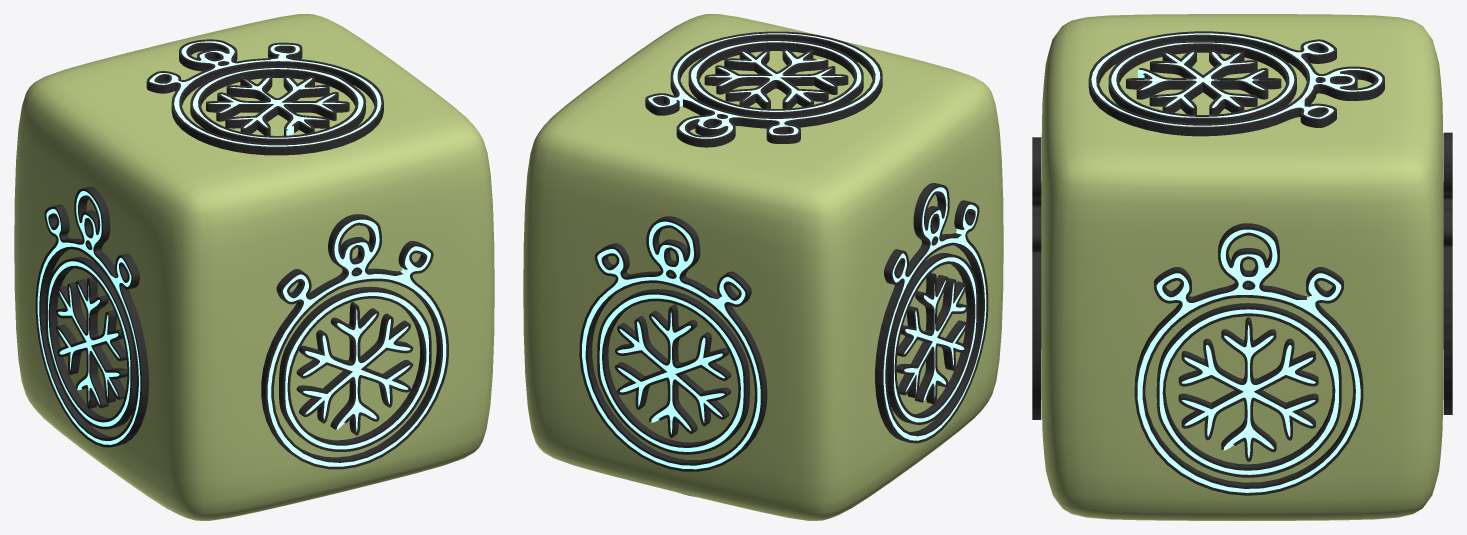
File: freeze collectible.fbx
3 views of the same model, side by side, from view 1: azimuth 30°, elevation 25°; view 2: azimuth 150°, elevation 25°; view 3: azimuth 270°, elevation 25° (orthographic). The views are drawn at different scales.
Visible parts, largest first — view 1: freeze collectible, freeze-side-face.005|border.017|Dupli|1, freeze-side-face.003|border.017|Dupli|1, freeze-side-face|border.017|Dupli|1, freeze-side-face.005|border|Dupli|5, freeze-side-face.003|border|Dupli|5, freeze-side-face|border|Dupli|5, freeze-side-face.005|border.018|Dupli|3, freeze-side-face.005|circle 1|Dupli|, freeze-side-face.003|border.018|Dupli|3, freeze-side-face|border.018|Dupli|3, freeze-side-face.005|frost|Dupli|4 (+7 smaller); view 2: freeze collectible, freeze-side-face.004|border.017|Dupli|1, freeze-side-face.003|border.017|Dupli|1, freeze-side-face|border.017|Dupli|1, freeze-side-face.004|border|Dupli|5, freeze-side-face.003|border|Dupli|5, freeze-side-face|border|Dupli|5, freeze-side-face.004|border.018|Dupli|3, freeze-side-face.004|circle 1|Dupli|, freeze-side-face.003|border.018|Dupli|3, freeze-side-face|border.018|Dupli|3, freeze-side-face.004|frost|Dupli|4 (+7 smaller); view 3: freeze collectible, freeze-side-face.001|border.017|Dupli|1, freeze-side-face|border.017|Dupli|1, freeze-side-face.001|border|Dupli|5, freeze-side-face.001|circle 1|Dupli|, freeze-side-face|border|Dupli|5, freeze-side-face.001|border.018|Dupli|3, freeze-side-face|border.018|Dupli|3, freeze-side-face.001|frost|Dupli|4, freeze-side-face.005|border.017|Dupli|1, freeze-side-face.004|border.017|Dupli|1, freeze-side-face.001|circle 2|Dupli|2 (+3 smaller).
Part boxes in pixels (x1,y1,x2,y2): freeze collectible: [14, 14, 494, 520]; freeze-side-face.005|border.017|Dupli|1: [261, 214, 448, 469]; freeze-side-face.003|border.017|Dupli|1: [35, 187, 148, 447]; freeze-side-face|border.017|Dupli|1: [146, 39, 383, 155]; freeze-side-face.005|border|Dupli|5: [296, 302, 413, 435]; freeze-side-face.003|border|Dupli|5: [56, 277, 127, 408]; freeze-side-face|border|Dupli|5: [206, 76, 349, 135]; freeze-side-face.005|border.018|Dupli|3: [279, 286, 431, 451]; freeze-side-face.005|circle 1|Dupli|: [267, 219, 446, 466]; freeze-side-face.003|border.018|Dupli|3: [46, 257, 136, 429]; freeze-side-face|border.018|Dupli|3: [190, 66, 365, 143]; freeze-side-face.005|frost|Dupli|4: [303, 309, 410, 431]; freeze collectible: [523, 14, 1003, 520]; freeze-side-face.004|border.017|Dupli|1: [579, 216, 767, 471]; freeze-side-face.003|border.017|Dupli|1: [875, 183, 988, 443]; freeze-side-face|border.017|Dupli|1: [645, 31, 882, 147]; freeze-side-face.004|border|Dupli|5: [614, 304, 731, 437]; freeze-side-face.003|border|Dupli|5: [896, 273, 967, 404]; freeze-side-face|border|Dupli|5: [704, 48, 848, 108]; freeze-side-face.004|border.018|Dupli|3: [597, 289, 749, 454]; freeze-side-face.004|circle 1|Dupli|: [582, 221, 760, 469]; freeze-side-face.003|border.018|Dupli|3: [887, 253, 978, 424]; freeze-side-face|border.018|Dupli|3: [688, 39, 863, 116]; freeze-side-face.004|frost|Dupli|4: [617, 312, 724, 433]; freeze collectible: [1041, 14, 1443, 520]; freeze-side-face.001|border.017|Dupli|1: [1134, 223, 1363, 495]; freeze-side-face|border.017|Dupli|1: [1088, 31, 1384, 136]; freeze-side-face.001|border|Dupli|5: [1178, 317, 1318, 461]; freeze-side-face.001|circle 1|Dupli|: [1137, 229, 1360, 492]; freeze-side-face|border|Dupli|5: [1126, 50, 1281, 114]; freeze-side-face.001|border.018|Dupli|3: [1156, 303, 1341, 477]; freeze-side-face|border.018|Dupli|3: [1108, 40, 1296, 123]; freeze-side-face.001|frost|Dupli|4: [1181, 325, 1315, 457]; freeze-side-face.005|border.017|Dupli|1: [1032, 137, 1041, 419]; freeze-side-face.004|border.017|Dupli|1: [1443, 132, 1452, 414]; freeze-side-face.001|circle 2|Dupli|2: [1159, 309, 1338, 474].
Bounding box in the file's own units: 209 × 209 × 209.
